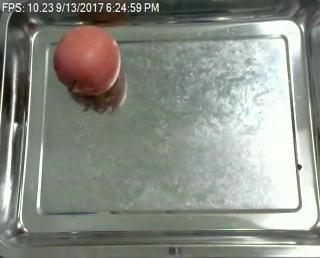apple: (53, 25, 121, 95)
